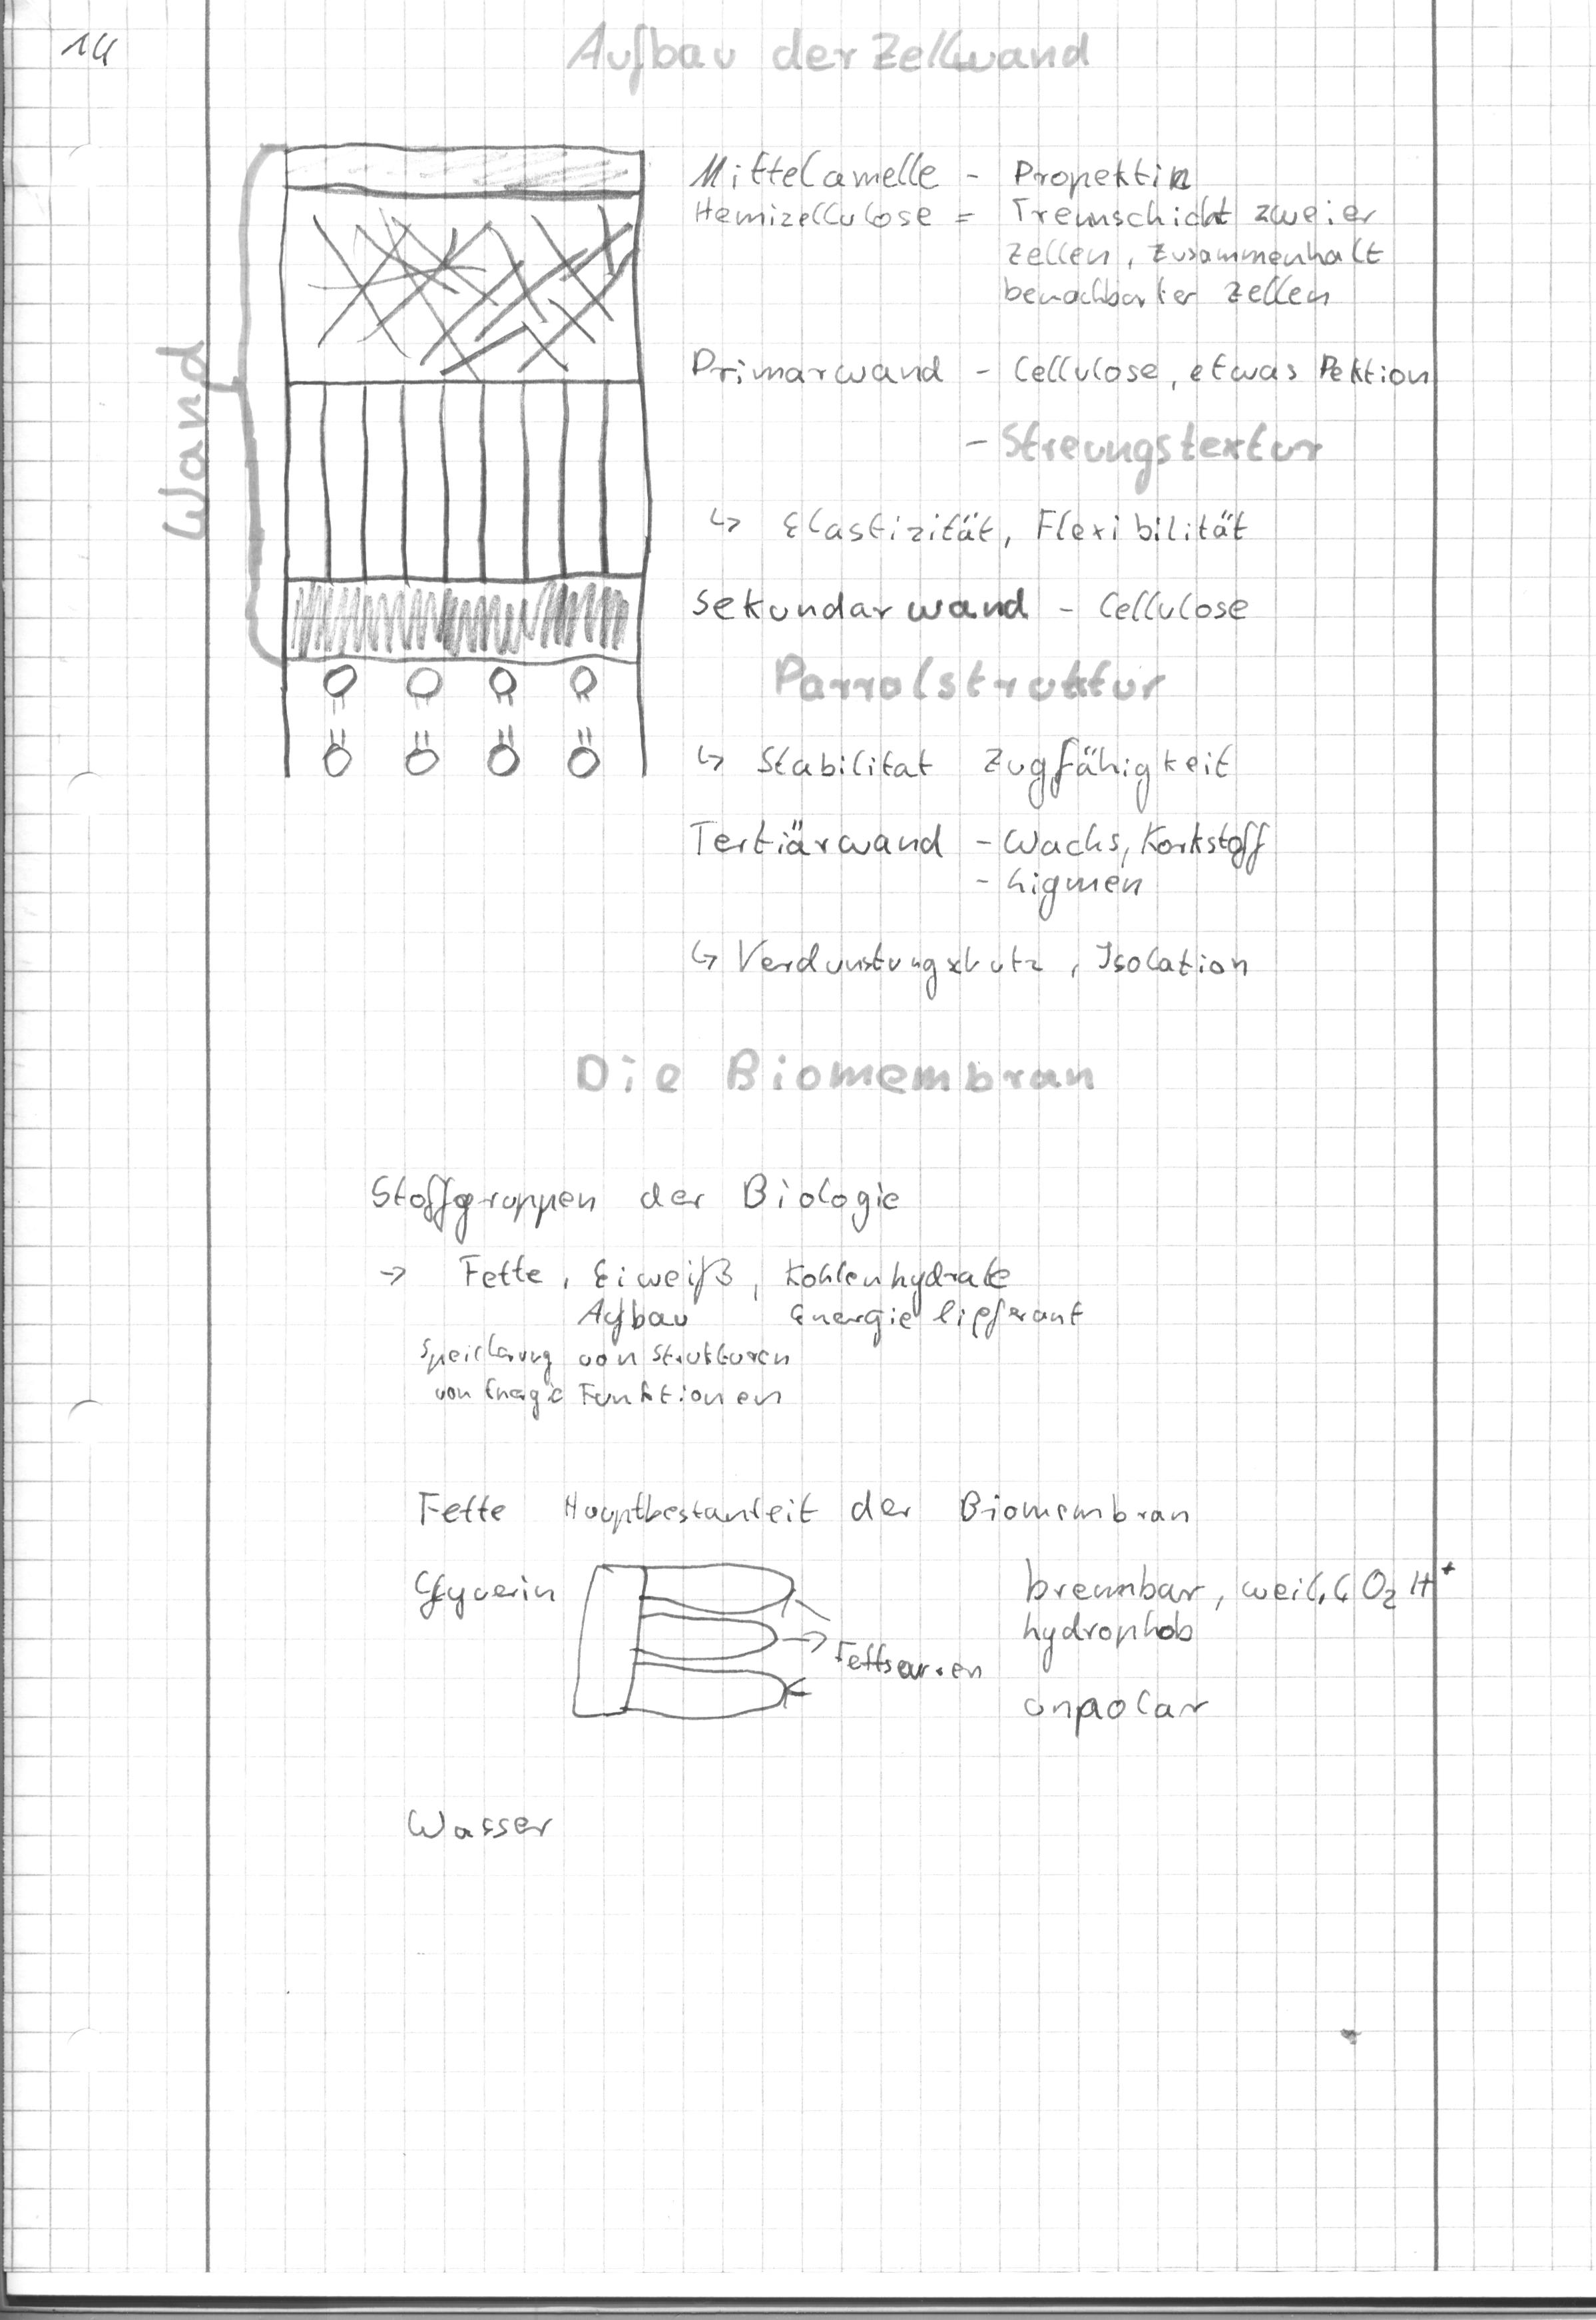word: (366, 1248, 1081, 1429), (682, 140, 1396, 318), (690, 806, 1266, 925), (398, 1468, 1198, 1548), (1007, 1548, 1463, 1661), (684, 338, 1434, 401), (678, 927, 1254, 1006), (364, 1161, 915, 1244), (690, 732, 1241, 815), (681, 573, 1265, 650), (692, 493, 1259, 569), (1011, 1675, 1234, 1754), (382, 1778, 571, 1867), (396, 1553, 579, 1631), (830, 1629, 990, 1689)
